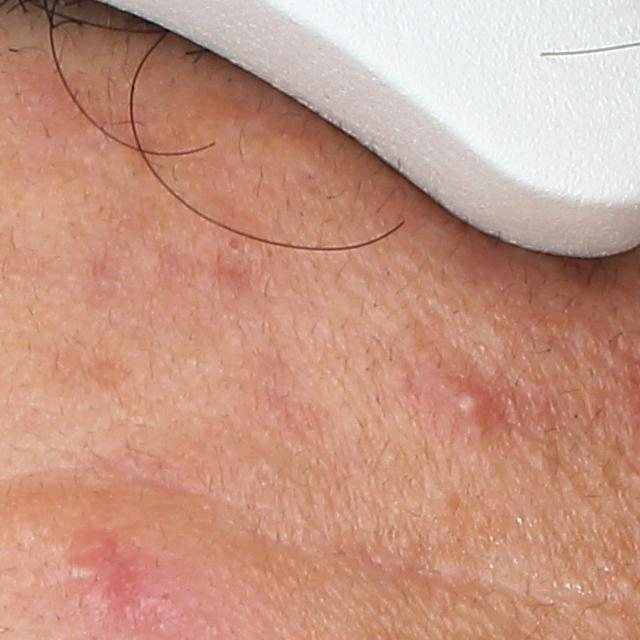comedo: (526, 449, 556, 473), (225, 236, 248, 253)
pustule: (446, 381, 483, 420)
